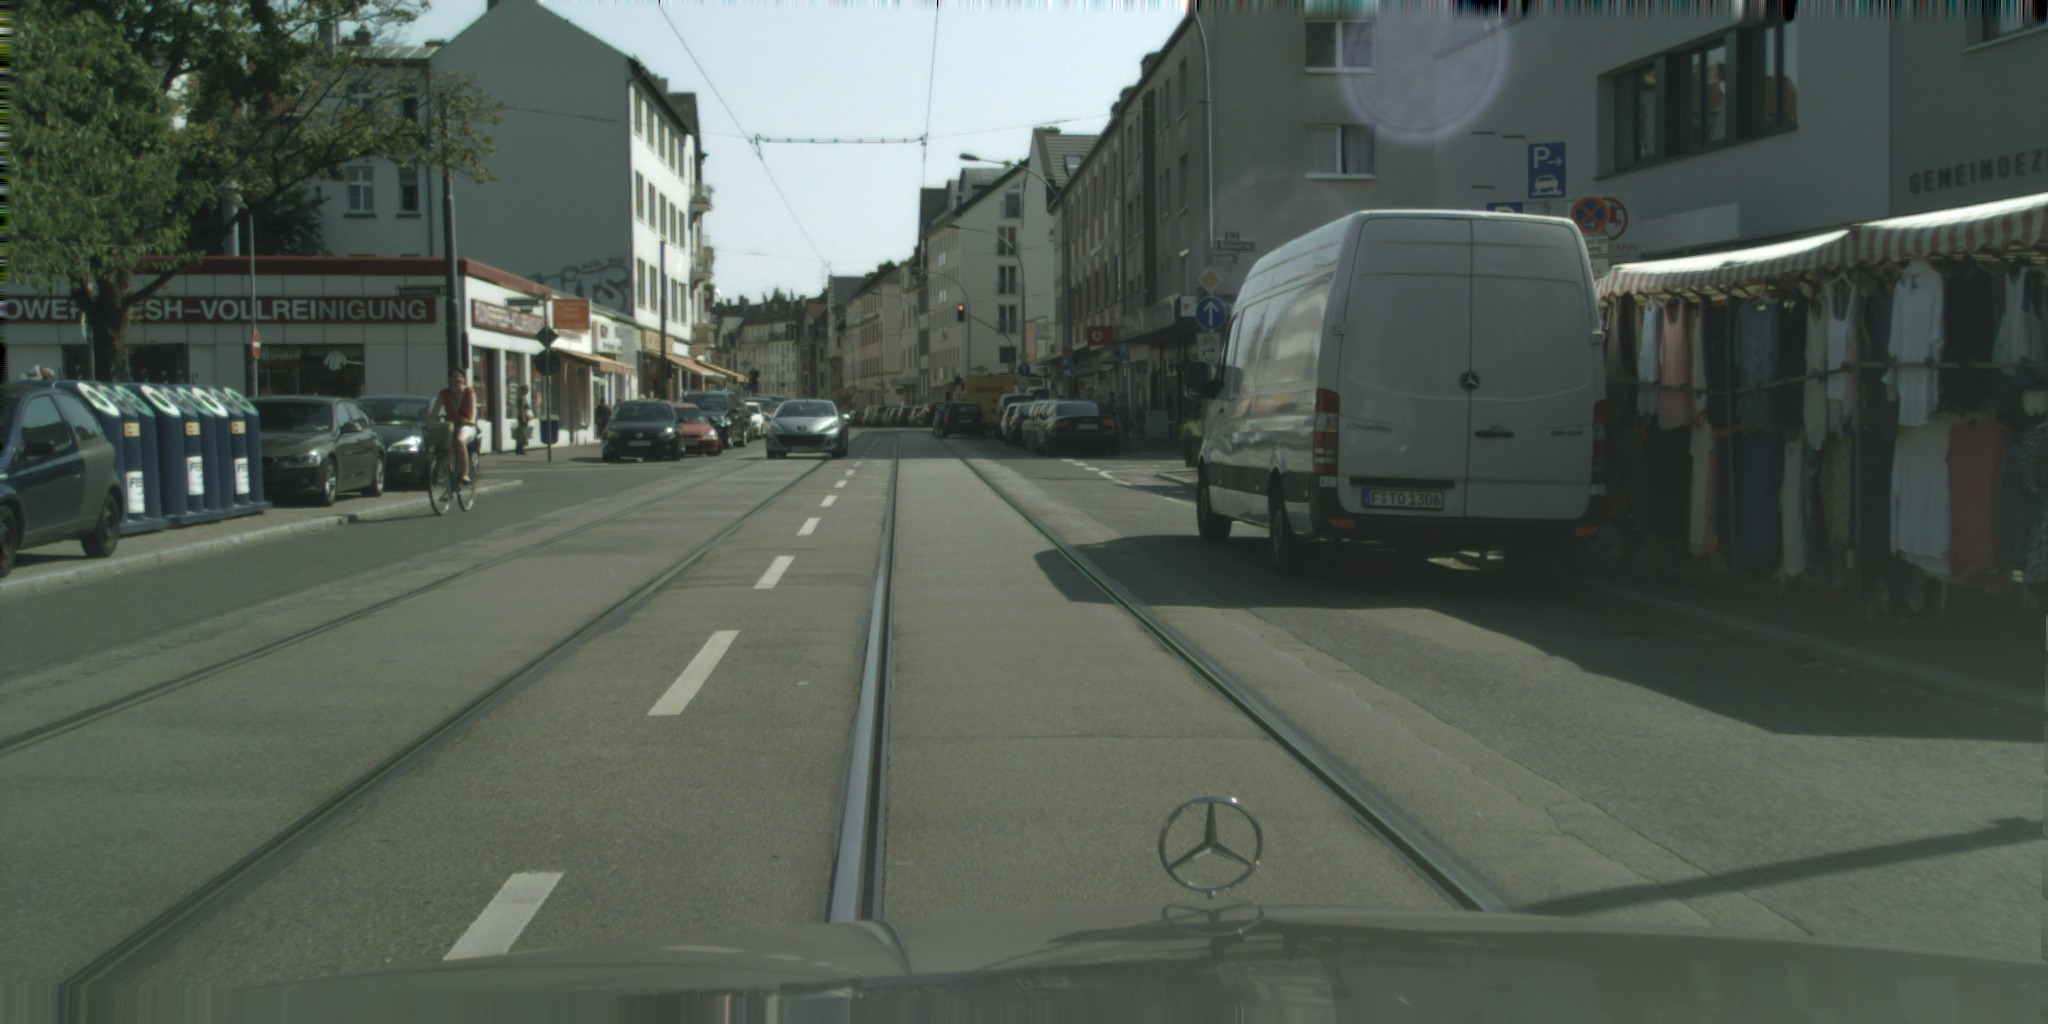bicycle: (422, 425, 481, 516)
car: (1186, 208, 1609, 582), (0, 382, 124, 580), (245, 392, 386, 509), (351, 395, 463, 491), (601, 399, 686, 463), (765, 399, 849, 460), (1033, 400, 1121, 457), (682, 390, 751, 449), (669, 402, 724, 457), (1009, 399, 1058, 447), (928, 401, 986, 440), (993, 392, 1035, 440), (1022, 401, 1063, 449), (740, 400, 773, 440), (1000, 402, 1030, 444), (743, 397, 779, 427), (759, 394, 787, 420)
person: (512, 385, 534, 454), (1104, 391, 1121, 439), (1111, 393, 1126, 449), (594, 398, 612, 440), (932, 406, 949, 438)
rider: (421, 367, 476, 502)
truck: (965, 374, 1016, 433)
